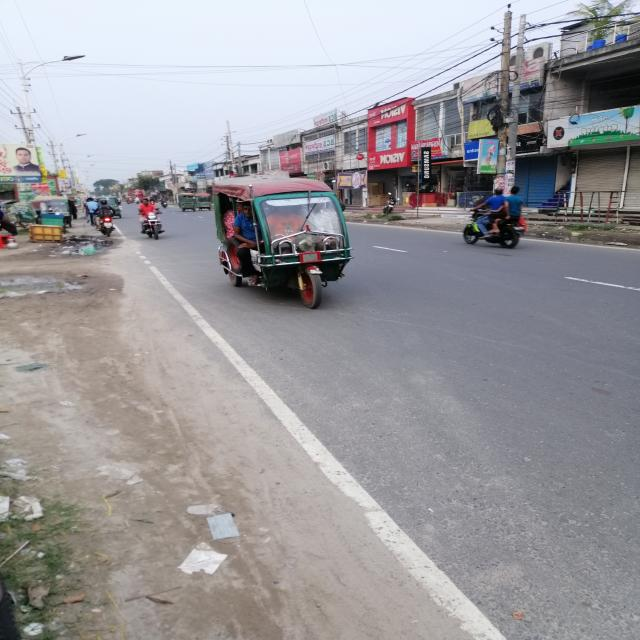Easybike: (196, 170, 371, 326)
Motorbike: (447, 197, 554, 265), (132, 204, 169, 252), (86, 206, 124, 242)
